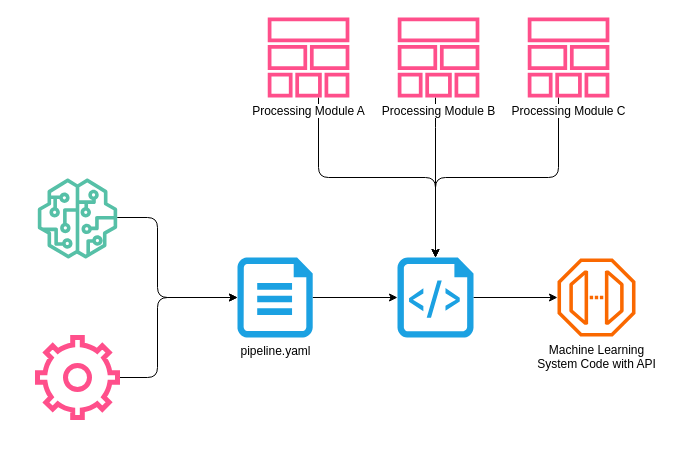
The diagram is 673 pixels wide and 455 high, and some of its shapes have lost their labels. Each missing label, with the box of its shape:
Conversion Tool: (397, 257, 473, 337)
Machine Learning Model: (37, 178, 117, 258)
System Configurations: (34, 334, 120, 420)
